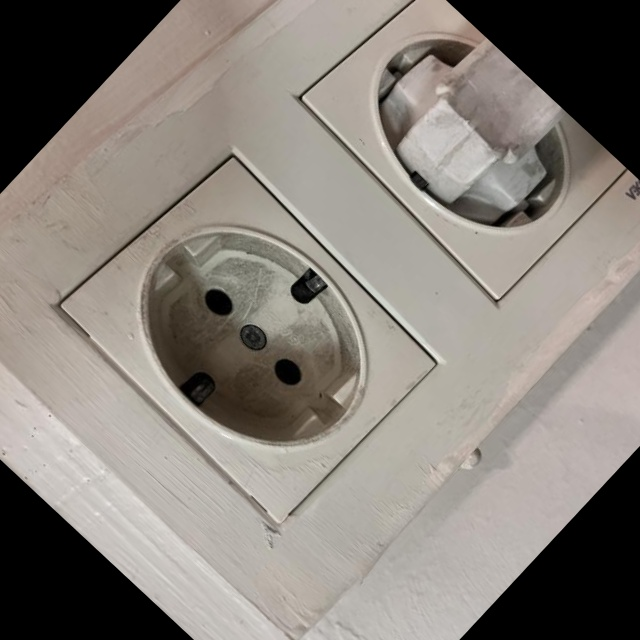pozidriv: (235, 319, 272, 356)
